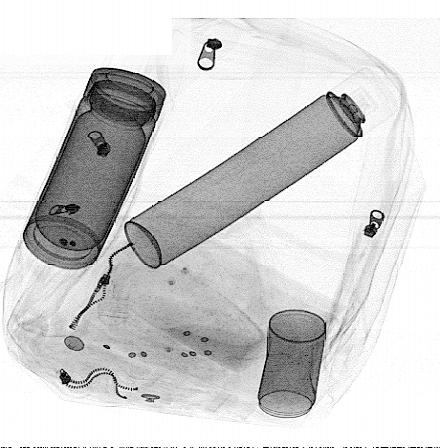Sprayer: (123, 66, 397, 268)
